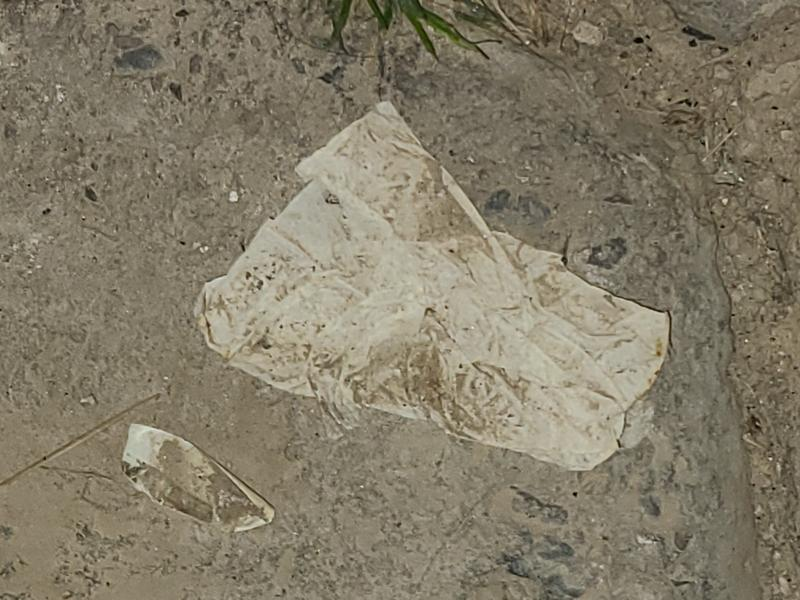papel: (194, 101, 670, 473)
